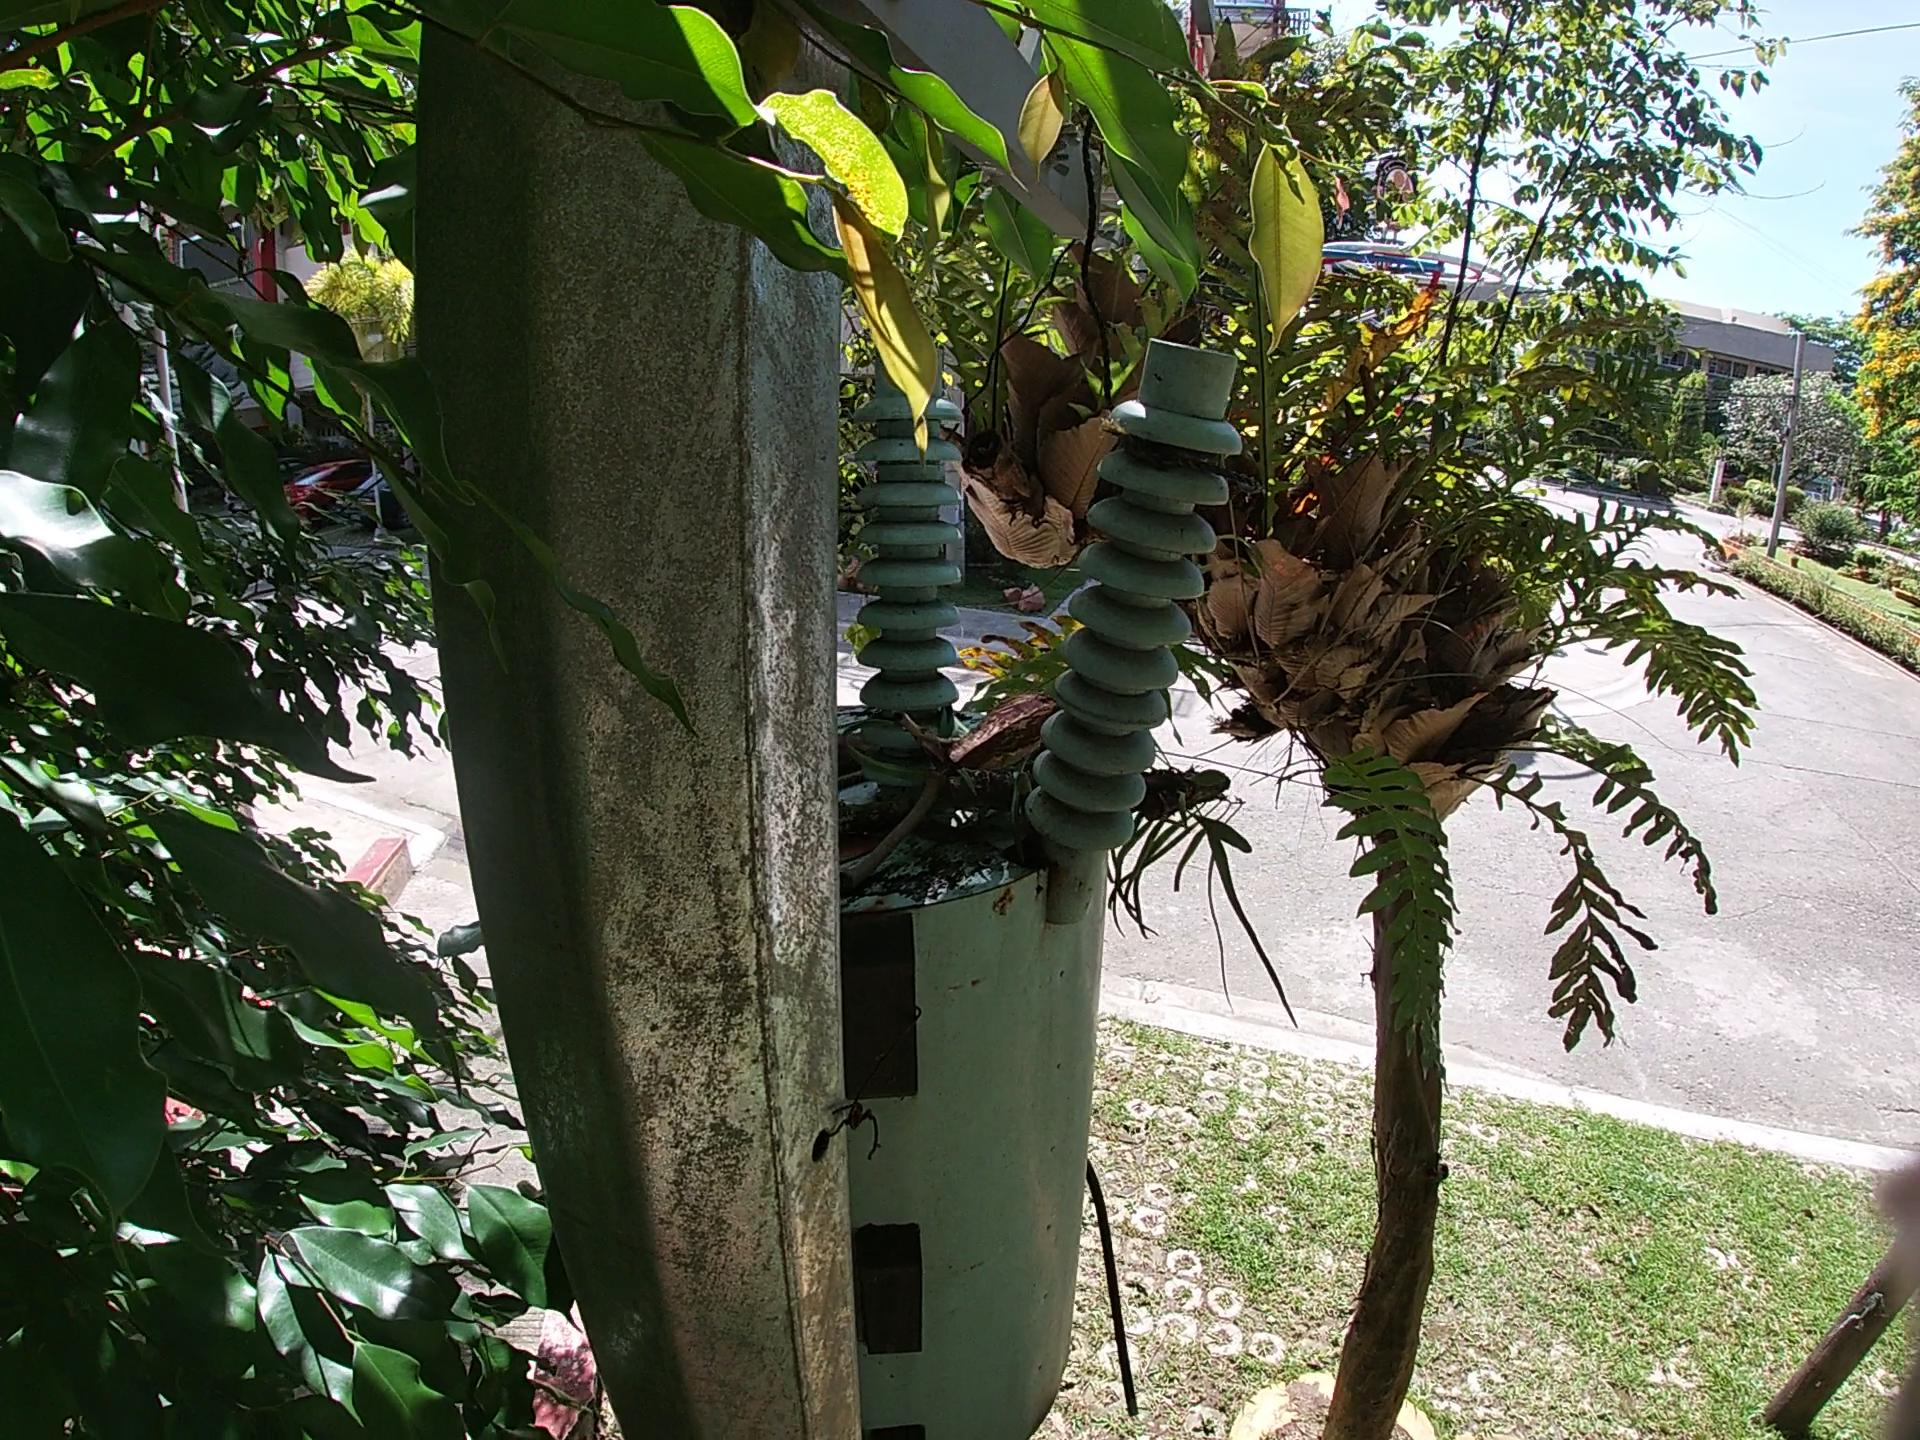branch with leaves: (859, 722, 1261, 835)
tree branch: (848, 774, 1002, 909)
